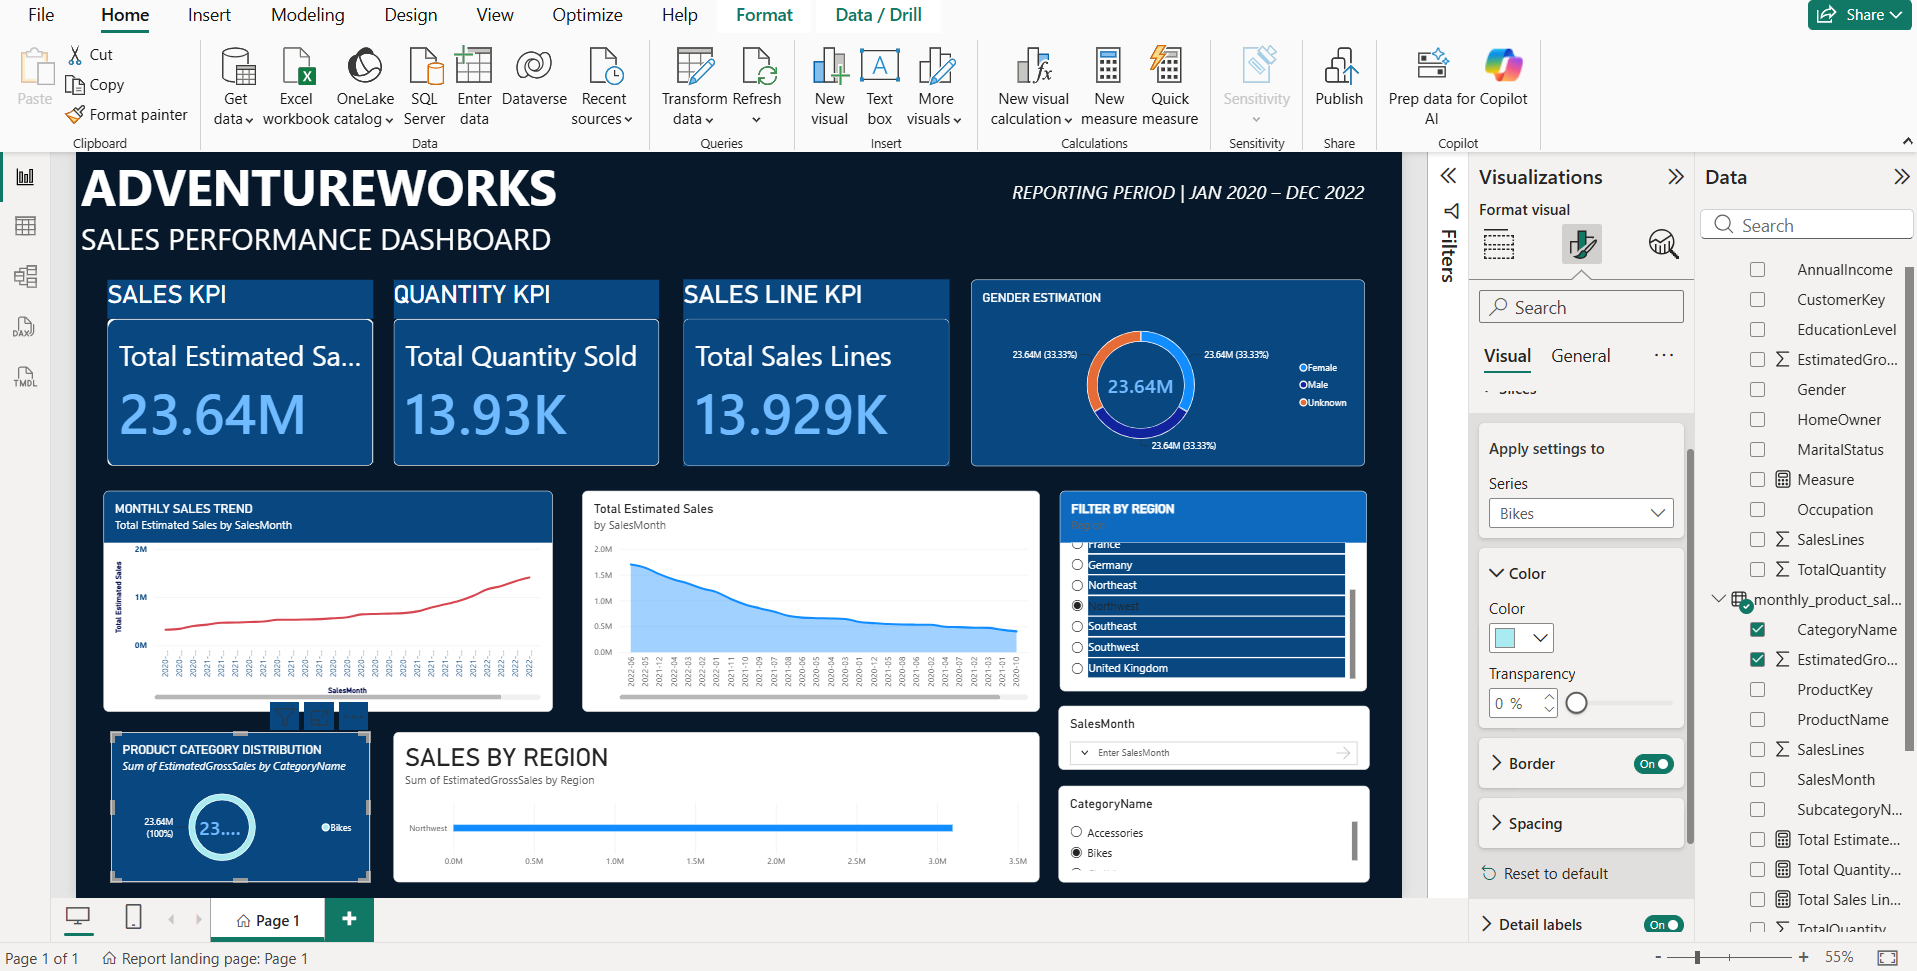

The dashboard page shown, as its layout file describes it:
{"tool":"powerbi","page":{"name":"Page 1","canvas":[1920,1080],"ordinal":0},"visuals":[{"type":"textbox","box":[7.5,0,905,185],"z":0},{"type":"textbox","box":[1355,40,532.5,50],"z":1000},{"type":"cardVisual","title":"SALES KPI","fields":{"Data":["monthly_product_sales.Total Estimated Sales"]},"box":[45,185,385,270],"z":2000},{"type":"cardVisual","title":"QUANTITY KPI","fields":{"Data":["monthly_product_sales.Total Quantity Sold"]},"box":[460,185,385,270],"z":3000},{"type":"cardVisual","title":"SALES LINE KPI","fields":{"Data":["monthly_product_sales.Total Sales Lines"]},"box":[880,185,385,270],"z":4000},{"type":"lineChart","title":"MONTHLY SALES TREND","fields":{"Category":["monthly_product_sales.SalesMonth"],"Y":["monthly_product_sales.Total Estimated Sales"]},"box":[40,490,650,320],"z":4001},{"type":"donutChart","title":"PRODUCT CATEGORY DISTRIBUTION","fields":{"Category":["monthly_product_sales.CategoryName"],"Y":["Sum(monthly_product_sales.EstimatedGrossSales)"]},"box":[50,840,375,217.5],"z":4002},{"type":"clusteredBarChart","title":"SALES BY REGION","fields":{"Category":["regional_sales.Region"],"Y":["Sum(regional_sales.EstimatedGrossSales)"]},"box":[460,840,935,217.5],"z":4003},{"type":"donutChart","title":"GENDER ESTIMATION","fields":{"Category":["customer_sales.Gender"],"Y":["Sum(monthly_product_sales.EstimatedGrossSales)"]},"box":[1295,185,570,270],"z":4004},{"type":"areaChart","fields":{"Category":["monthly_product_sales.SalesMonth"],"Y":["monthly_product_sales.Total Estimated Sales"]},"box":[732.5,490,662.5,320],"z":4005},{"type":"listSlicer","title":"FILTER BY REGION","fields":{"Values":["regional_sales.Region"]},"box":[1425,490,445,290],"z":4006},{"type":"listSlicer","fields":{"Values":["monthly_product_sales.CategoryName"]},"box":[1422.5,917.5,450,140],"z":4007},{"type":"textSlicer","fields":{"Values":["monthly_product_sales.SalesMonth"]},"box":[1422.5,802.5,450,92.5],"z":4008}]}

Visuals, with their boxes on the page's 1920x1080 design canvas (x1, y1, x2, y2). These are canvas units, not pixel positions in the 1917x971 screenshot, which may show the page scaled, cropped or inside an application window:
textbox: x1=8 y1=0 x2=912 y2=185
textbox: x1=1355 y1=40 x2=1888 y2=90
"SALES KPI" cardVisual: x1=45 y1=185 x2=430 y2=455
"QUANTITY KPI" cardVisual: x1=460 y1=185 x2=845 y2=455
"SALES LINE KPI" cardVisual: x1=880 y1=185 x2=1265 y2=455
"MONTHLY SALES TREND" lineChart: x1=40 y1=490 x2=690 y2=810
"PRODUCT CATEGORY DISTRIBUTION" donutChart: x1=50 y1=840 x2=425 y2=1058
"SALES BY REGION" clusteredBarChart: x1=460 y1=840 x2=1395 y2=1058
"GENDER ESTIMATION" donutChart: x1=1295 y1=185 x2=1865 y2=455
areaChart - monthly_product_sales.SalesMonth x monthly_product_sales.Total Estimated Sales: x1=732 y1=490 x2=1395 y2=810
"FILTER BY REGION" listSlicer: x1=1425 y1=490 x2=1870 y2=780
listSlicer - monthly_product_sales.CategoryName: x1=1422 y1=918 x2=1872 y2=1058
textSlicer - monthly_product_sales.SalesMonth: x1=1422 y1=802 x2=1872 y2=895
